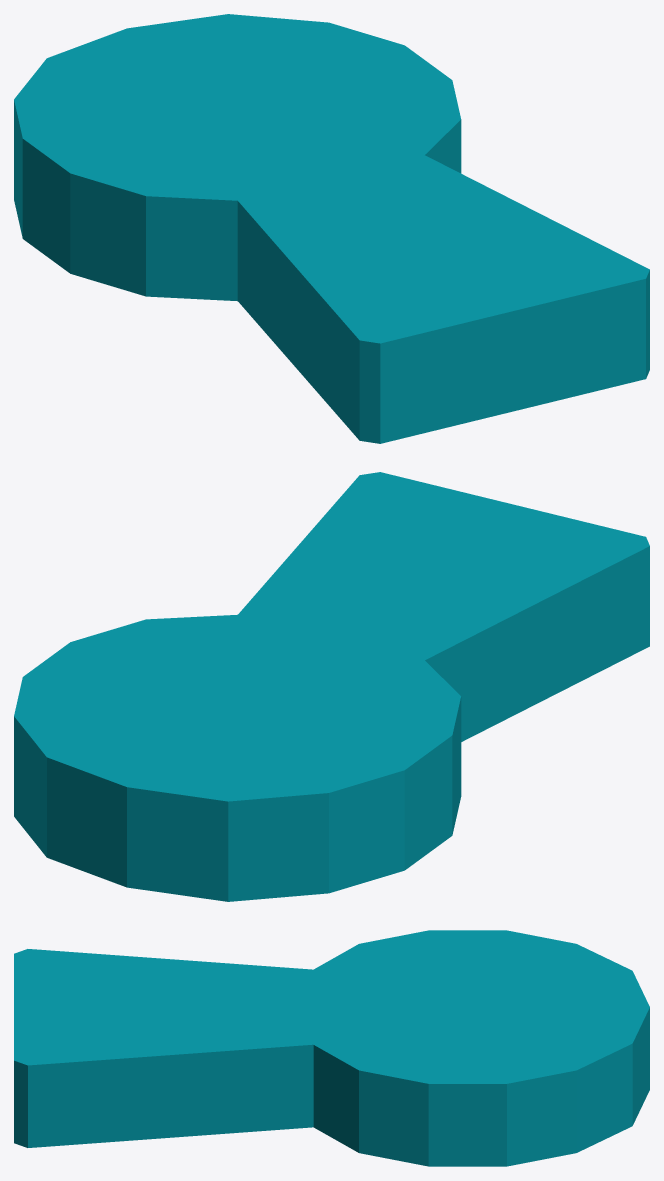
Rendered from icon_puerta_azul.fbx.
3 renders of one model, top to bottom at view 1: azimuth 30°, elevation 25°; view 2: azimuth 150°, elevation 25°; view 3: azimuth 270°, elevation 25°, orthographic. The views are drawn at different scales.
Parts seen in each view (by area): view 1: Icono_puerta_azul; view 2: Icono_puerta_azul; view 3: Icono_puerta_azul.
Boxes of the visible parts, bbox=[...] form: Icono_puerta_azul: bbox=[14, 14, 649, 443]; Icono_puerta_azul: bbox=[14, 472, 649, 901]; Icono_puerta_azul: bbox=[14, 930, 649, 1166].
Bounding box in the file's own units: 42.96 × 10.79 × 75.24.
